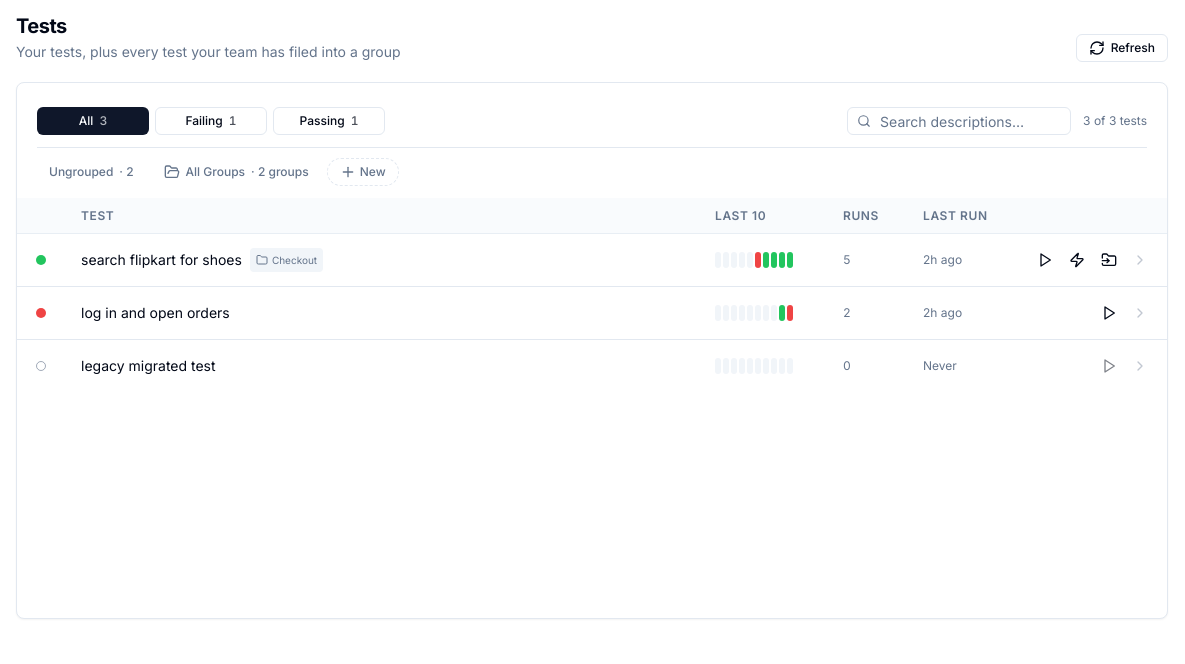
it: TestsPage — Run › says which run failed, with its full id, when execution errors
The width and height of the screenshot is (1185, 664).
Expected: the button "search flipkart for shoes" is shown, top-left (81, 250), bottom-right (242, 270)
Click the button named "Run search flipkart for shoes": point(1045, 260) top-left (1031, 246), bottom-right (1059, 274)
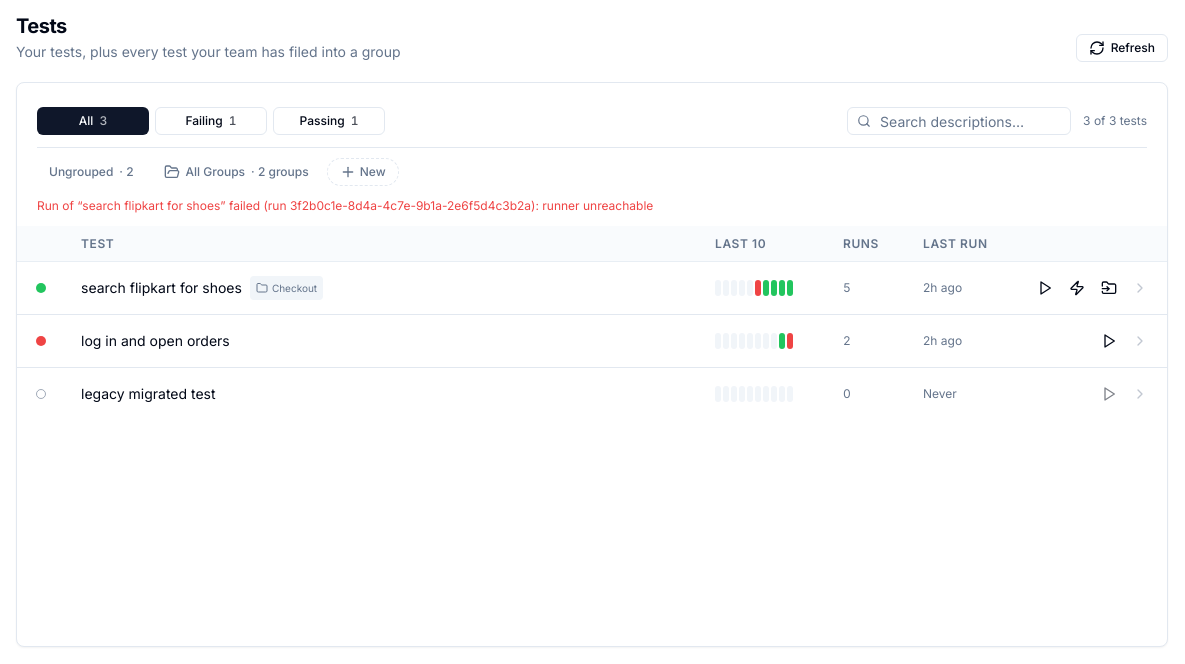
Expected: the text "Run of “search flipkart for shoes” failed (run 3f2b0c1e-8d4a-4c7e-9b1a-2e6f5d4c3b2a): runner unreachable" is shown, top-left (37, 198), bottom-right (653, 213)
